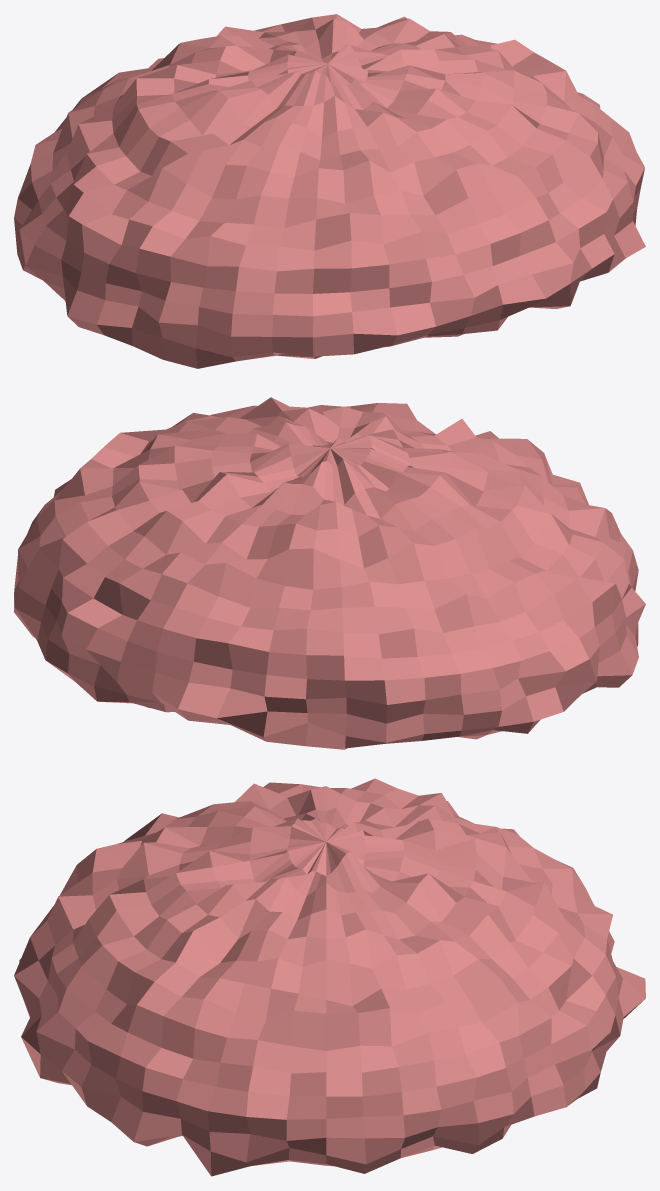
File: MincedMeat.fbx
3 views of the same model, one above another, from view 1: azimuth 30°, elevation 25°; view 2: azimuth 150°, elevation 25°; view 3: azimuth 270°, elevation 25° (orthographic). The views are drawn at different scales.
Visible parts, largest first — view 1: MincedMeat; view 2: MincedMeat; view 3: MincedMeat.
Boxes of the visible parts, <box> form: MincedMeat: <box>14,14,645,368</box>; MincedMeat: <box>14,397,645,749</box>; MincedMeat: <box>14,778,645,1176</box>.
Size of the model in its own units: 0.0917 by 0.0323 by 0.0845.
